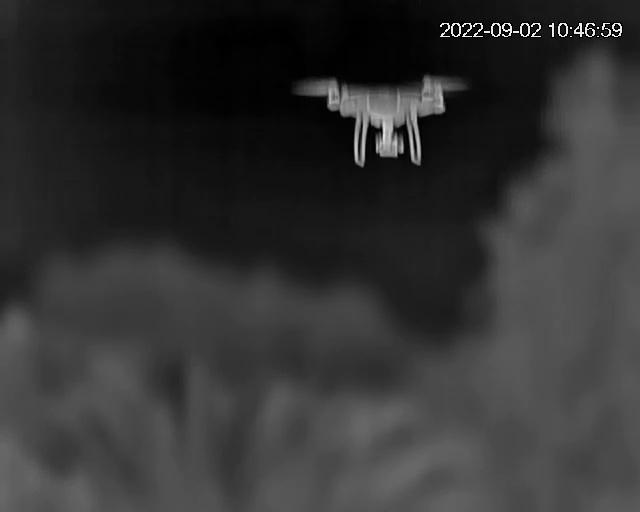DJI-Phantom: (289, 72, 482, 166)
